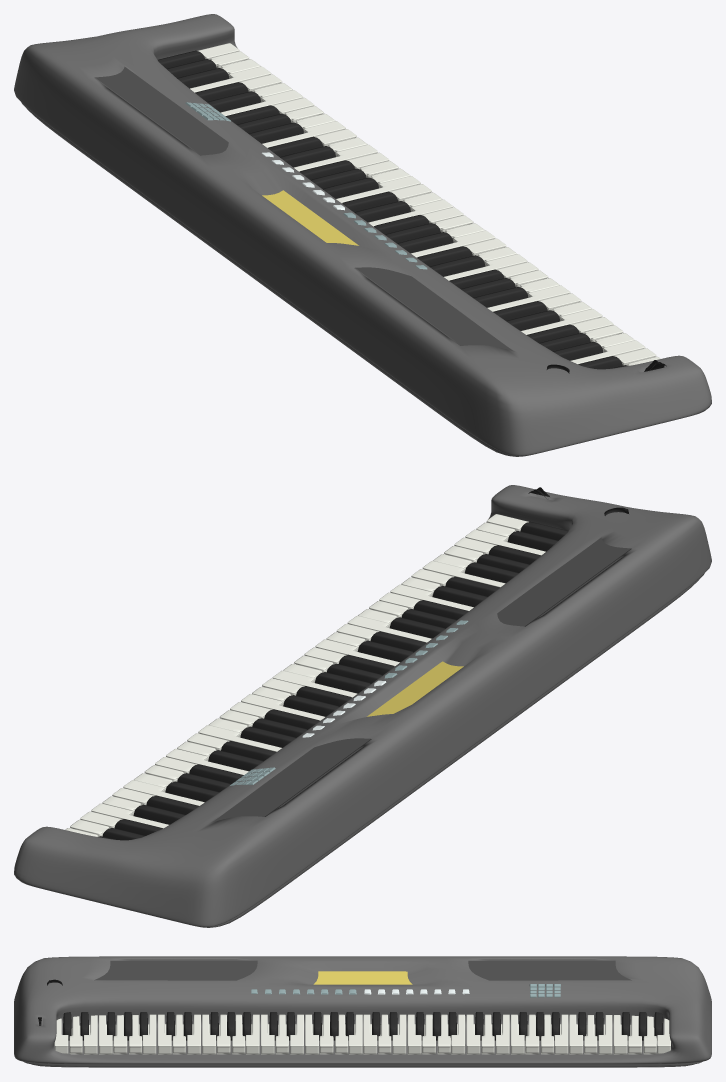
Rendered from ElectricPiano.fbx.
3 views of the same model, one above another, from view 1: azimuth 30°, elevation 25°; view 2: azimuth 150°, elevation 25°; view 3: azimuth 270°, elevation 25° (orthographic). The views are drawn at different scales.
Visible parts, largest first — view 1: Plane, Plane.077, Plane.078, Plane.075, Plane.047; view 2: Plane, Plane.078, Plane.077, Plane.075, Plane.033, Plane.040; view 3: Plane, Plane.078, Plane.077, Plane.075, Plane.045, Plane.069, Plane.044, Plane.056, Plane.049, Plane.041, Plane.012, Plane.072 (+67 smaller).
Part boxes in pixels (x1=…): Plane: x1=14, y1=14, x2=711, y2=456; Plane.077: x1=355, y1=267, x2=513, y2=351; Plane.078: x1=95, y1=66, x2=228, y2=155; Plane.075: x1=262, y1=190, x2=358, y2=245; Plane.047: x1=355, y1=201, x2=410, y2=222; Plane: x1=14, y1=485, x2=711, y2=927; Plane.078: x1=212, y1=738, x2=370, y2=822; Plane.077: x1=497, y1=537, x2=630, y2=626; Plane.075: x1=367, y1=661, x2=463, y2=716; Plane.033: x1=357, y1=640, x2=413, y2=662; Plane.040: x1=283, y1=695, x2=338, y2=716; Plane: x1=14, y1=956, x2=711, y2=1067; Plane.078: x1=468, y1=961, x2=631, y2=980; Plane.077: x1=94, y1=961, x2=257, y2=980; Plane.075: x1=313, y1=971, x2=412, y2=984; Plane.045: x1=392, y1=1014, x2=406, y2=1054; Plane.069: x1=598, y1=1015, x2=612, y2=1054; Plane.044: x1=407, y1=1014, x2=421, y2=1054; Plane.056: x1=554, y1=1014, x2=568, y2=1054; Plane.049: x1=466, y1=1014, x2=480, y2=1054; Plane.041: x1=451, y1=1014, x2=465, y2=1054; Plane.012: x1=142, y1=1014, x2=156, y2=1054; Plane.072: x1=569, y1=1014, x2=583, y2=1054.
Bounding box in the file's own units: 853 × 65.64 × 206.
